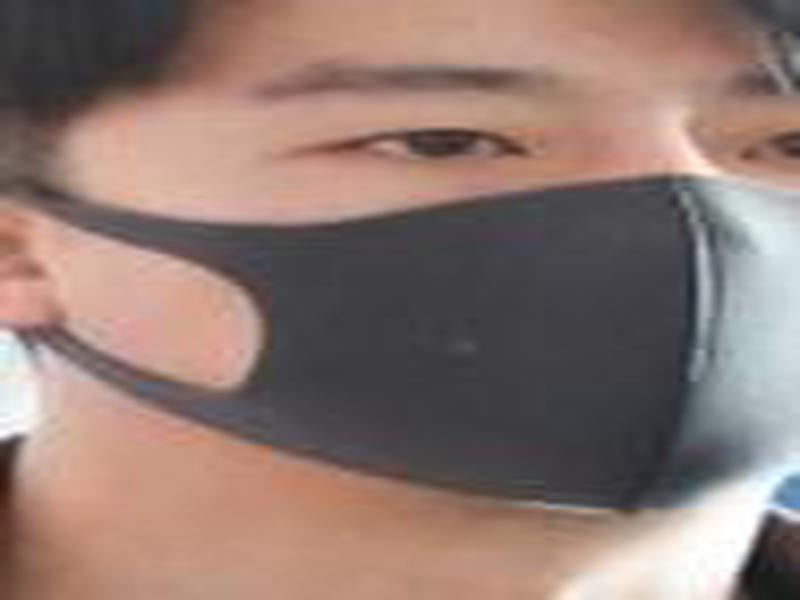with_mask: (1, 3, 798, 542)
